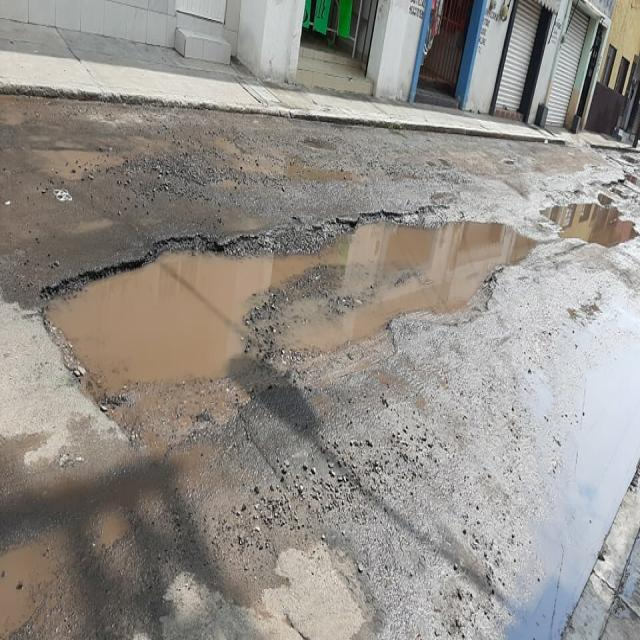Pothole: (29, 214, 398, 511), (414, 159, 584, 377)
